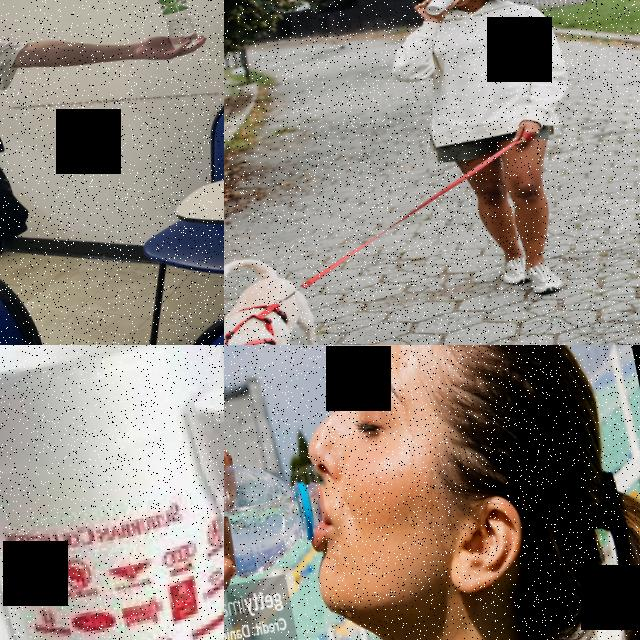bottle: (224, 433, 339, 618), (151, 0, 202, 56)
cup: (0, 345, 224, 640), (174, 345, 224, 640), (420, 0, 462, 18)
